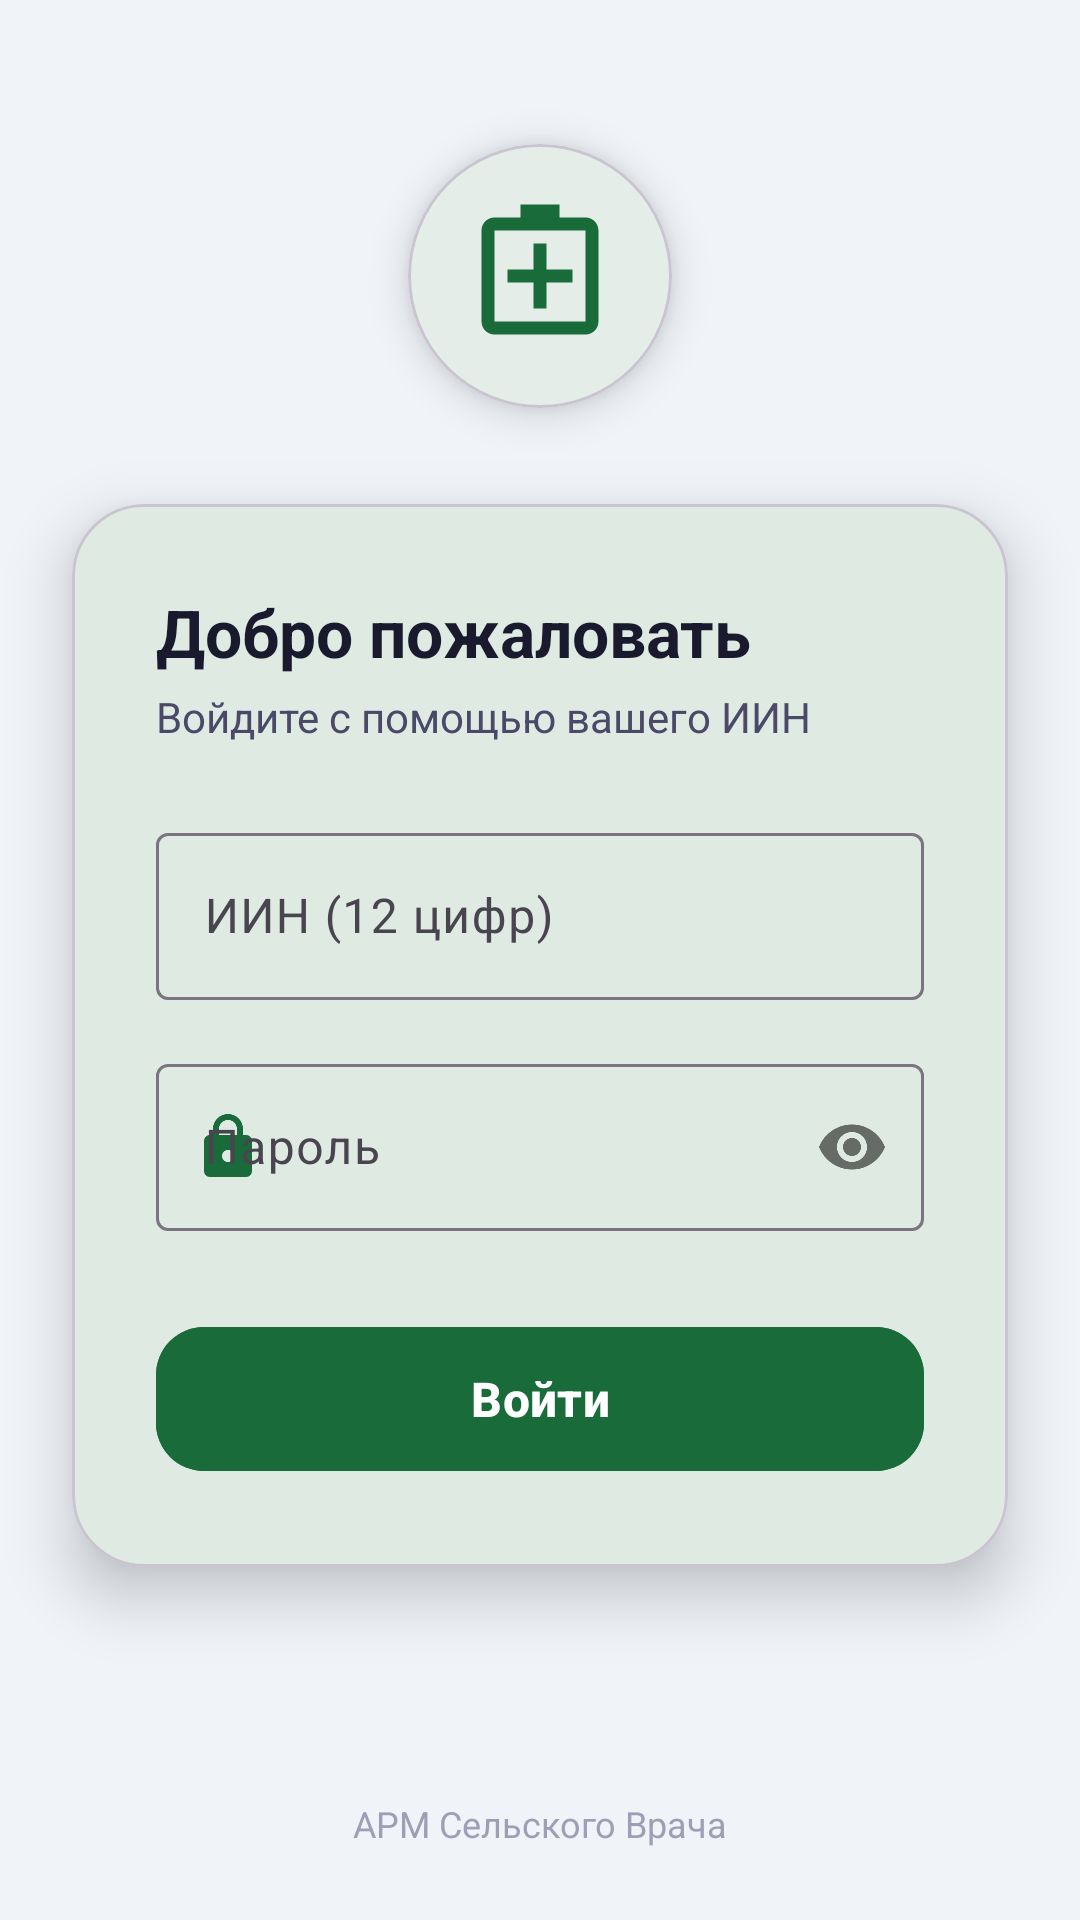

Screen size 1080w x 1920h. Icon name, then its box in pixels as bbox=(x1, y1, x2, y2):
medical cross: bbox=(481, 204, 599, 335)
